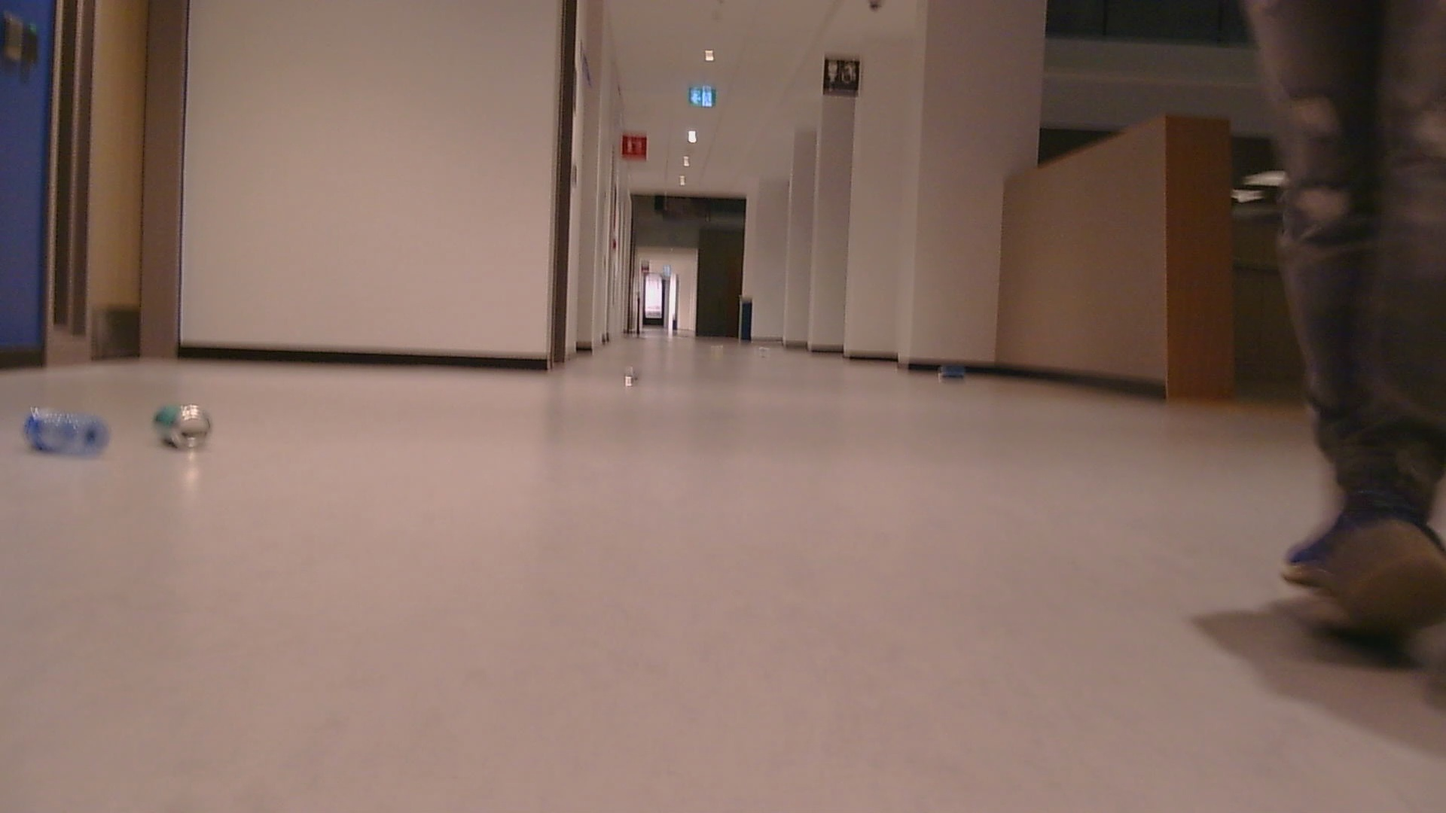carton: (18, 390, 120, 467), (142, 393, 235, 459), (917, 357, 974, 396), (619, 360, 648, 387)
